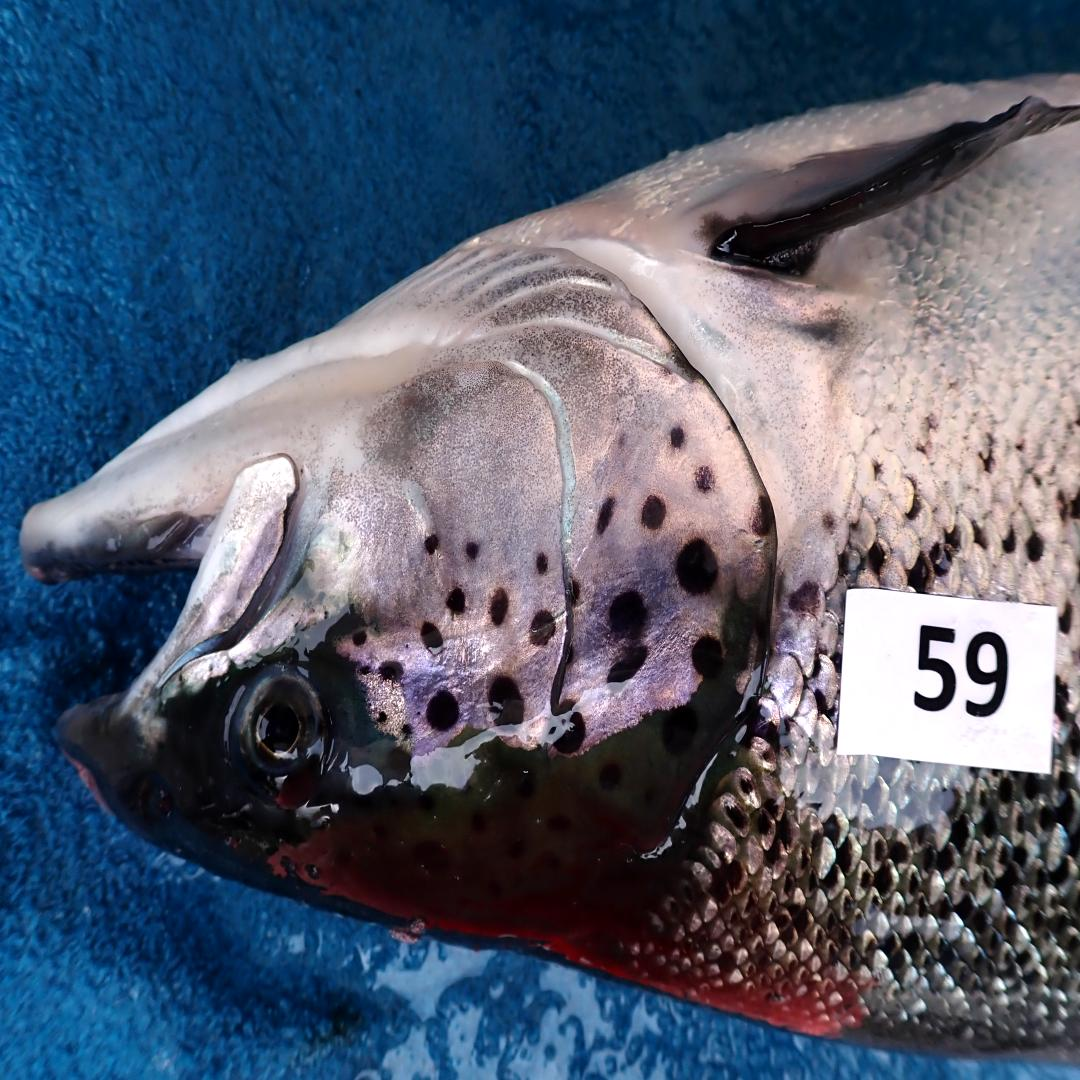roi: (300, 230, 777, 758)
